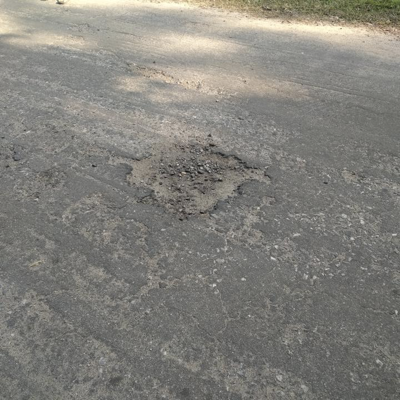pothole: (107, 141, 275, 218)
